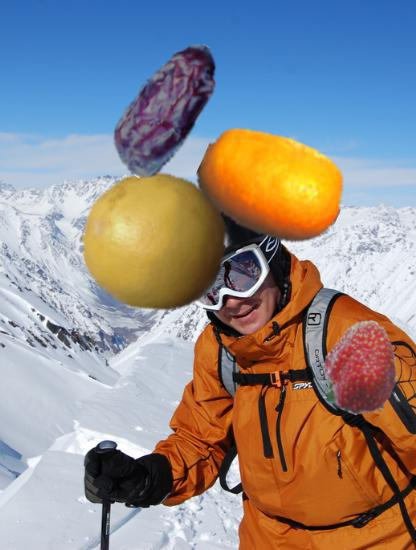Dates: (91, 33, 241, 183)
Grapefruit: (81, 168, 227, 314)
Kumquats: (198, 112, 345, 259)
Strawberry: (315, 320, 409, 414)
